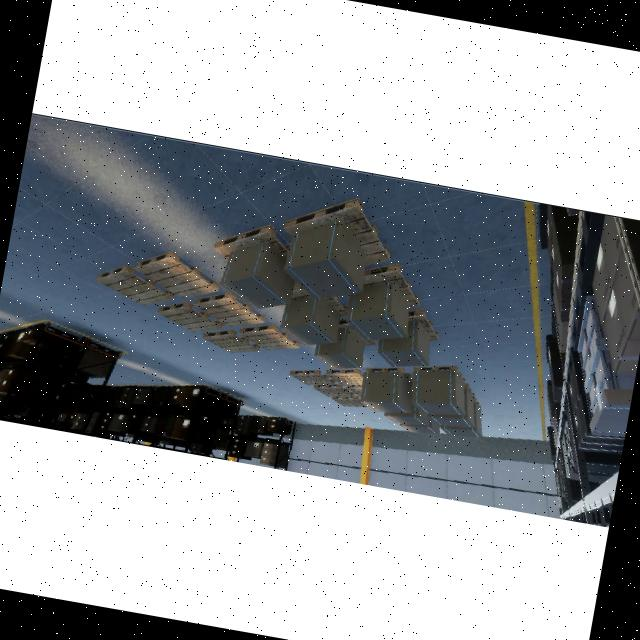wooden_pallet: (283, 197, 390, 264), (134, 250, 220, 299), (94, 265, 175, 307), (213, 225, 289, 260), (363, 263, 420, 306), (193, 293, 265, 327), (156, 301, 223, 332), (238, 324, 299, 350), (202, 330, 260, 353), (408, 309, 439, 341), (413, 366, 466, 384), (365, 367, 413, 382), (289, 370, 335, 385), (325, 369, 363, 385), (312, 384, 354, 397), (331, 396, 367, 407)
